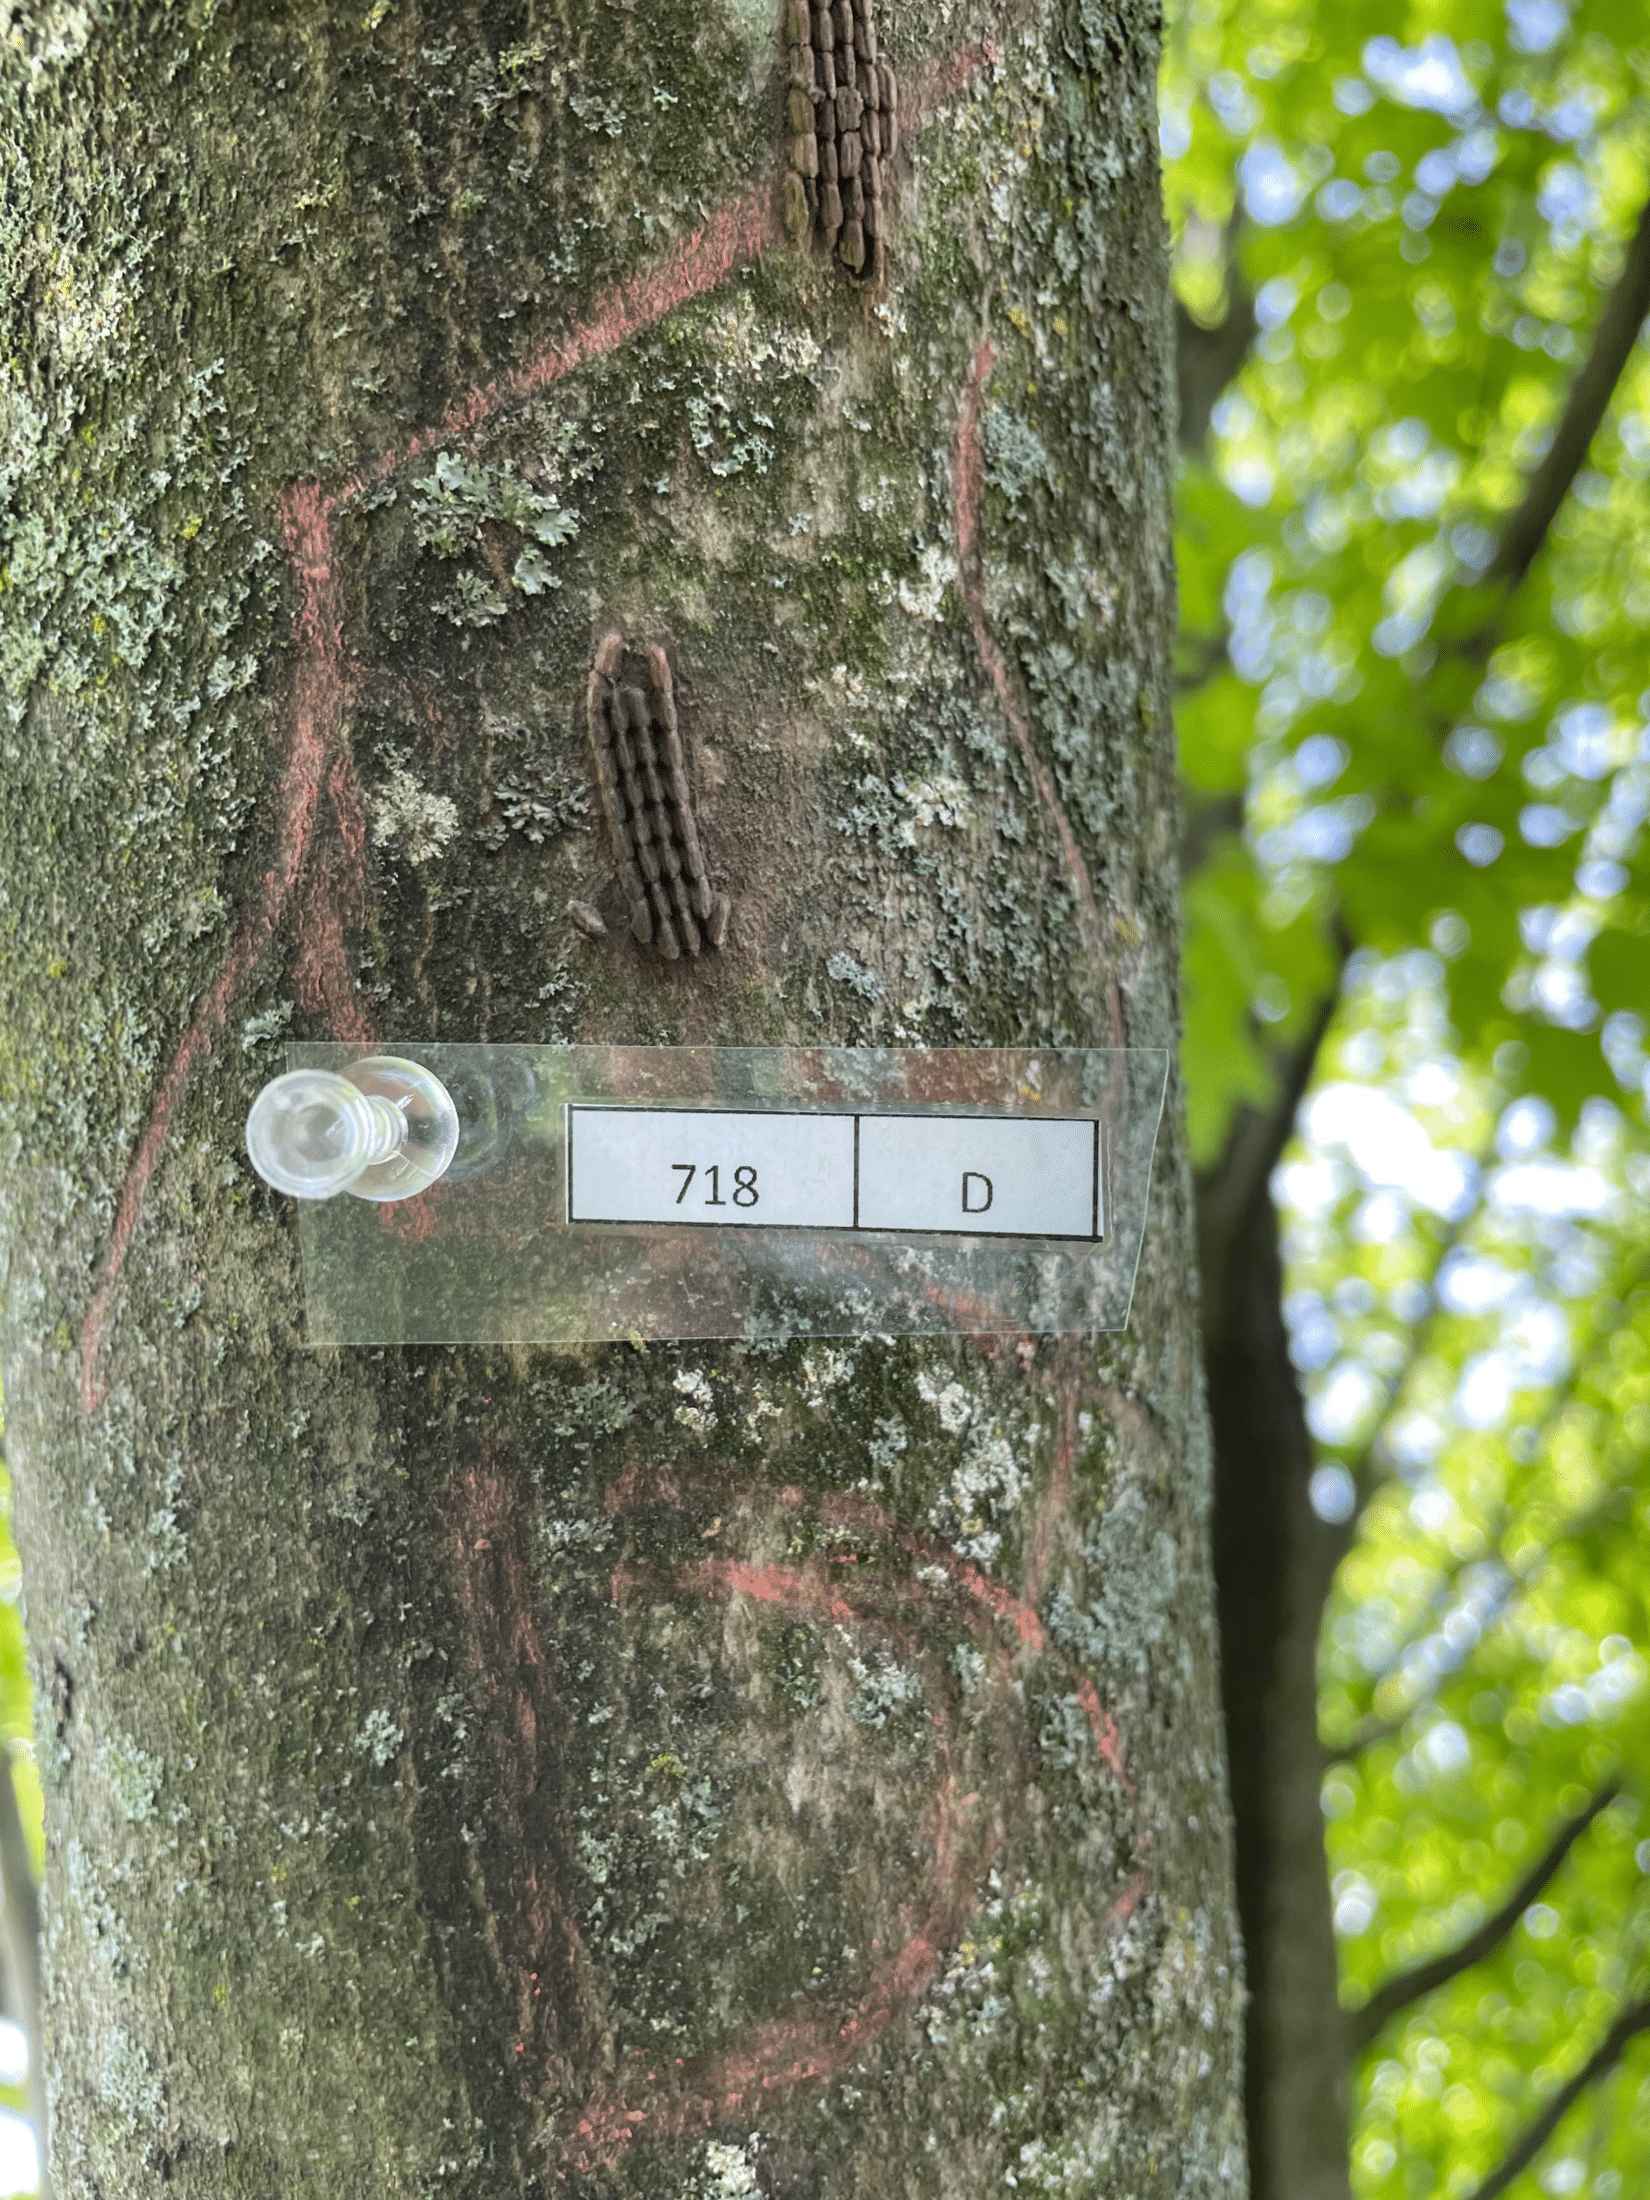egg masses: (574, 632, 738, 968), (778, 0, 889, 298)
